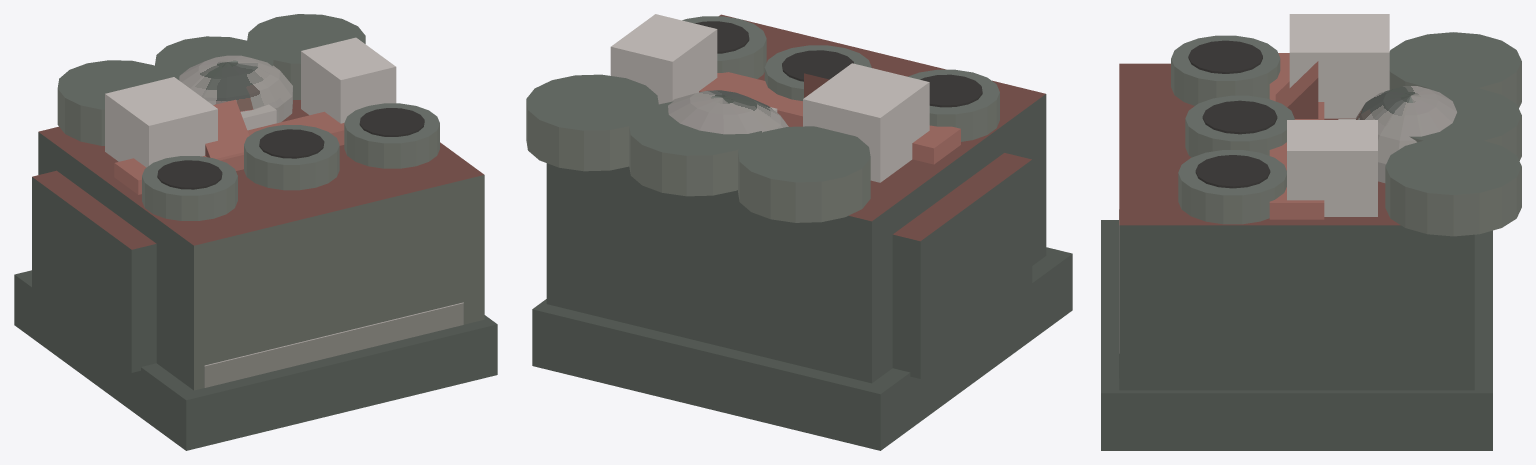
The model's file is Building_AncientRustedEngineBlock__C.glb.
3 views of the same model, side by side, from view 1: azimuth 30°, elevation 25°; view 2: azimuth 150°, elevation 25°; view 3: azimuth 270°, elevation 25° (orthographic). The views are drawn at different scales.
Parts seen in each view (by area): view 1: AncientRustedEngineBlock__C; view 2: AncientRustedEngineBlock__C; view 3: AncientRustedEngineBlock__C.
Boxes of the visible parts, x1,y1,x2,y2 form: AncientRustedEngineBlock__C: (14,14,497,450); AncientRustedEngineBlock__C: (526,14,1072,450); AncientRustedEngineBlock__C: (1101,14,1521,450).
Bounding box in the file's own units: 0.97 × 0.7 × 0.9238.
1 material, 1 textured.
